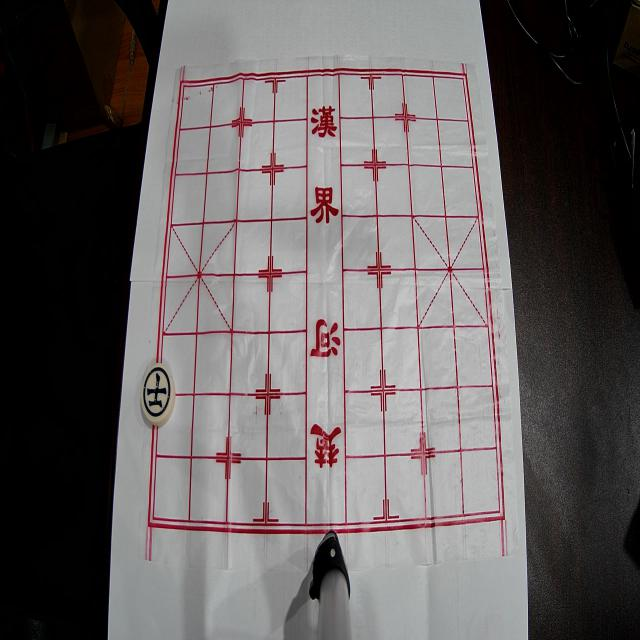black-guard: (141, 363, 175, 426)
